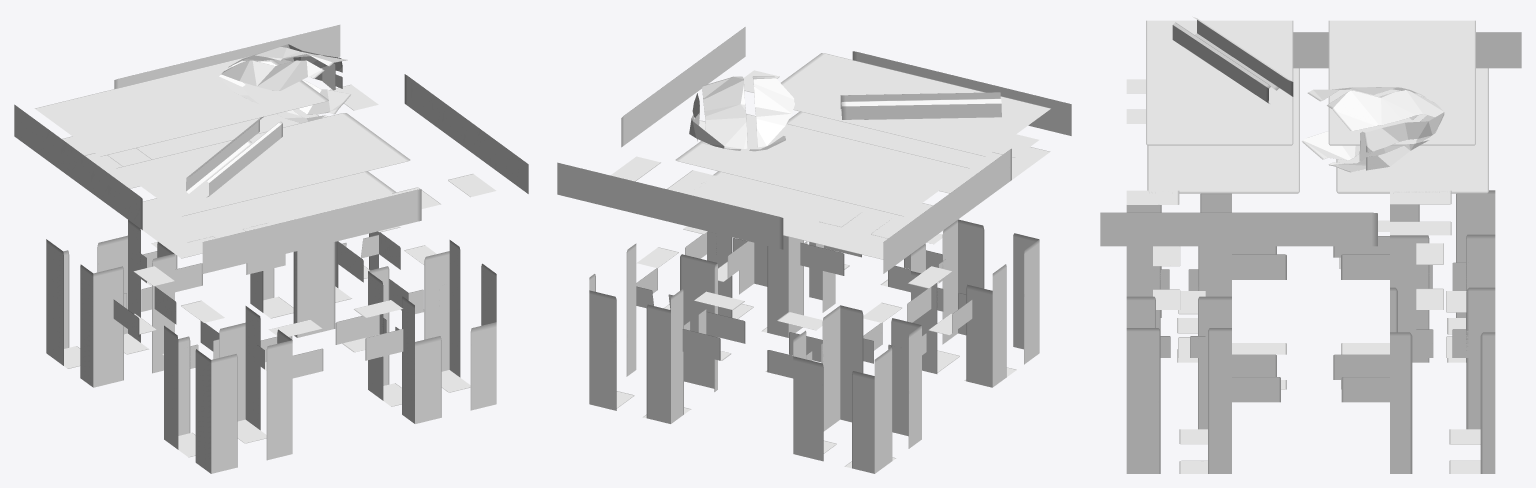
File: Flint_processing_table.dae
3 renders of one model, left to right at view 1: azimuth 30°, elevation 25°; view 2: azimuth 150°, elevation 25°; view 3: azimuth 270°, elevation 25°, orthographic. The views are drawn at different scales.
Visible parts, largest first — view 1: Table, Axe; view 2: Table, Axe; view 3: Table, Axe.
Part boxes in pixels (box(x1,y1,x2,y2)): Table: box(14, 25, 528, 473); Axe: box(186, 44, 350, 197); Table: box(557, 27, 1071, 473); Axe: box(689, 76, 1001, 151); Table: box(1100, 20, 1521, 473); Axe: box(1172, 17, 1444, 172).
Bounding box in the file's own units: 1 × 0.8763 × 1.
